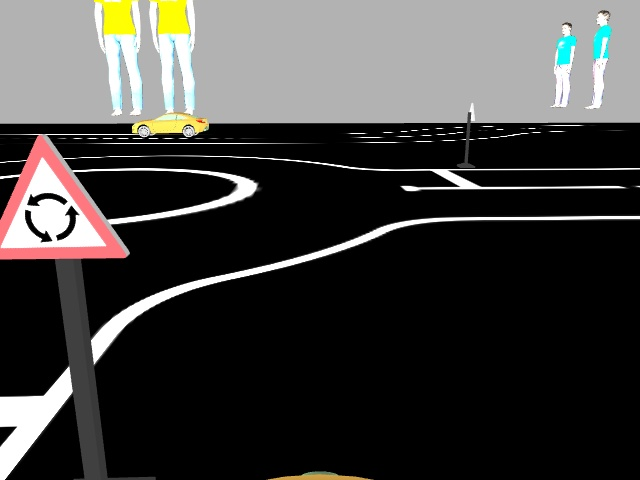Roundabout: (0, 133, 132, 262)
